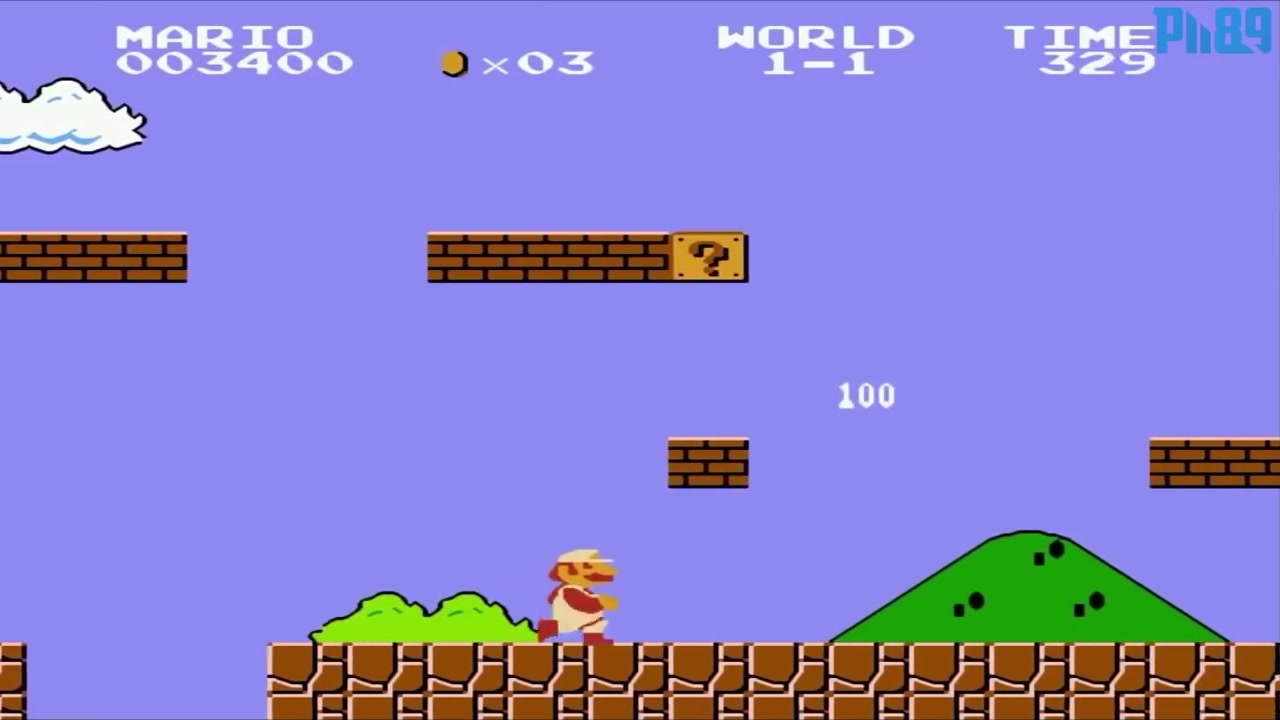mario: (533, 546, 621, 650)
